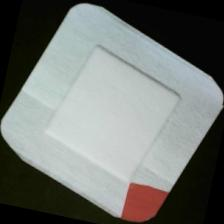Dressing: (1, 1, 224, 224)
Red_T: (102, 175, 180, 224)
